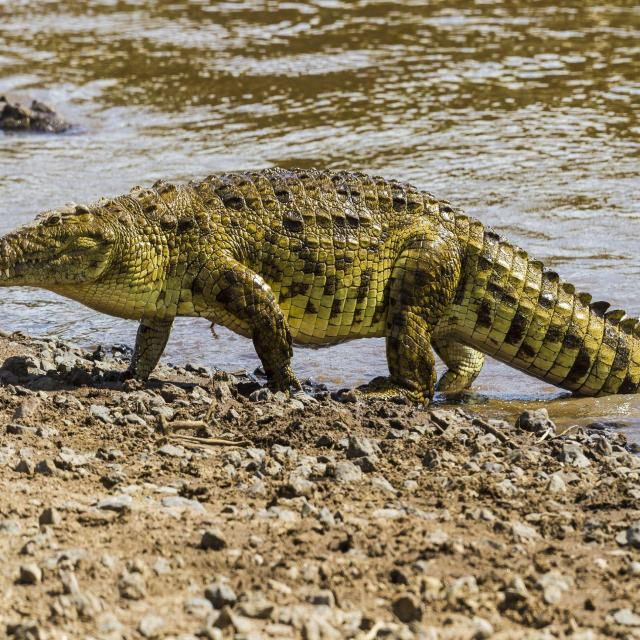crocodile: (0, 174, 640, 404)
